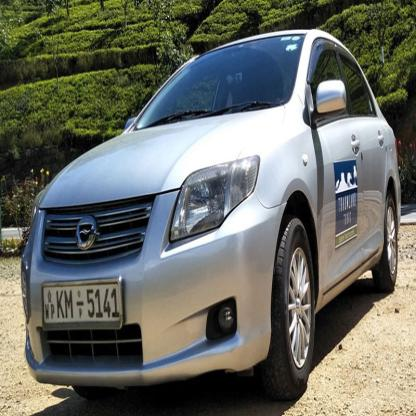car front: (20, 19, 404, 398)
number plate: (41, 280, 123, 324)
